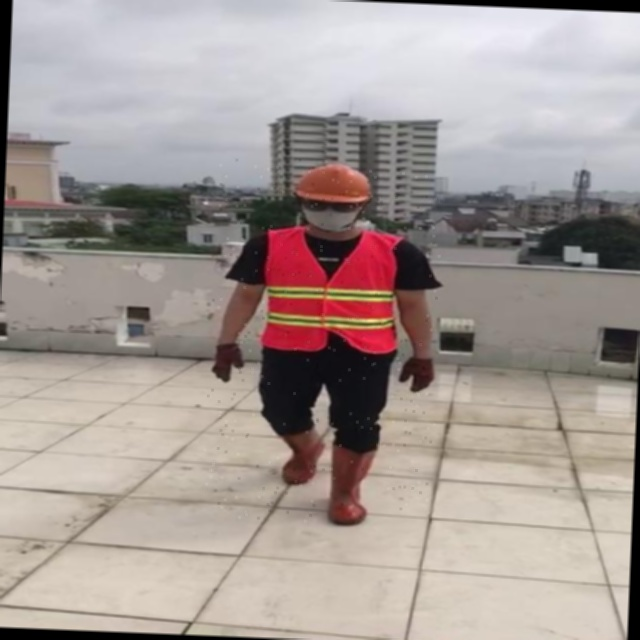boots: (252, 445, 306, 524), (309, 429, 354, 486)
gloves: (374, 322, 455, 400), (188, 333, 265, 411)
helmet: (270, 162, 350, 202)
vest: (236, 230, 377, 353)
